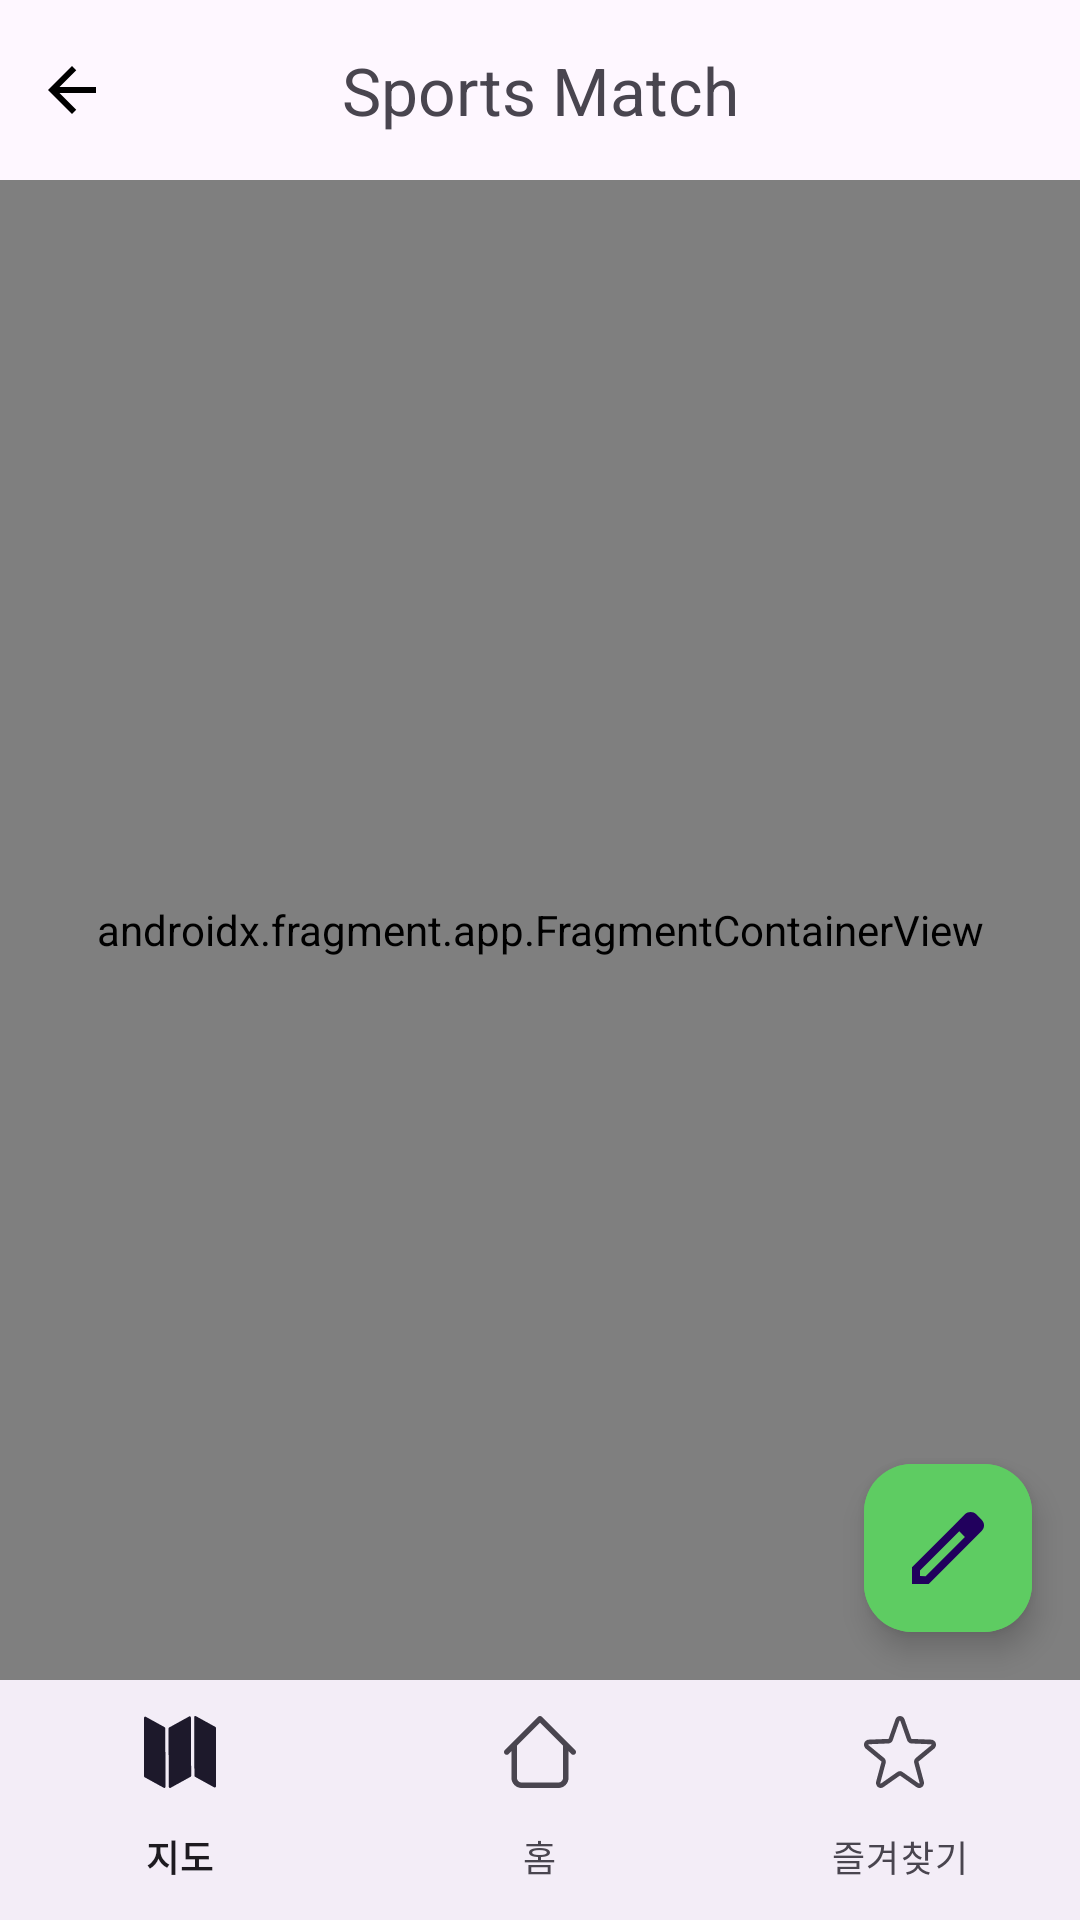

Screen size 1080px×1920px. Icon name, then its center in pixels as point (x, y):
back: point (72, 90)
pencil: point (948, 1548)
